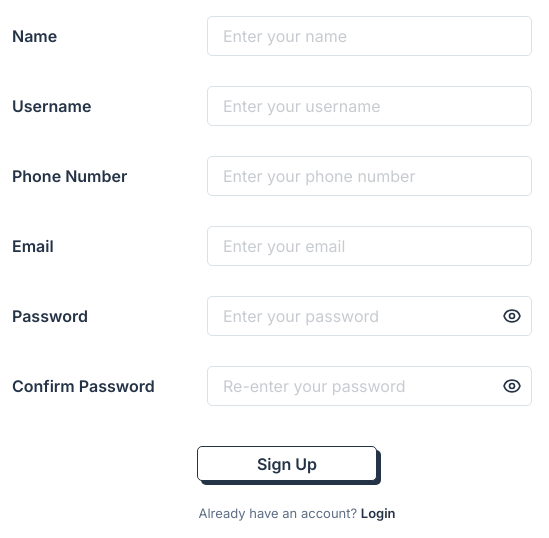
Test: SignUp › should show one email field
The image size is (549, 538).
Click the field labelled "Email". click: x=370, y=246
box: [207, 226, 532, 266]
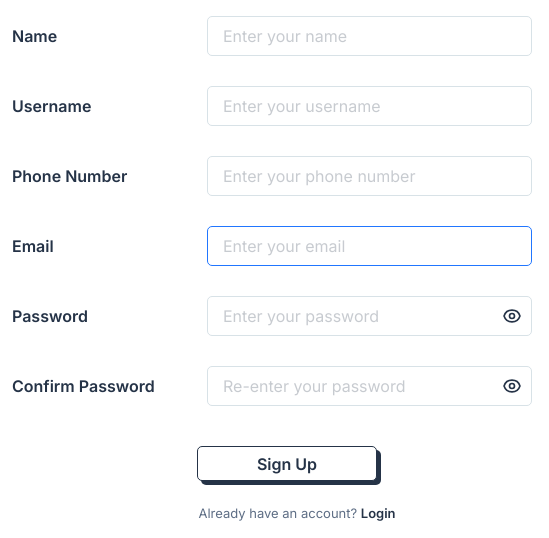
Type keys "john@e.com"
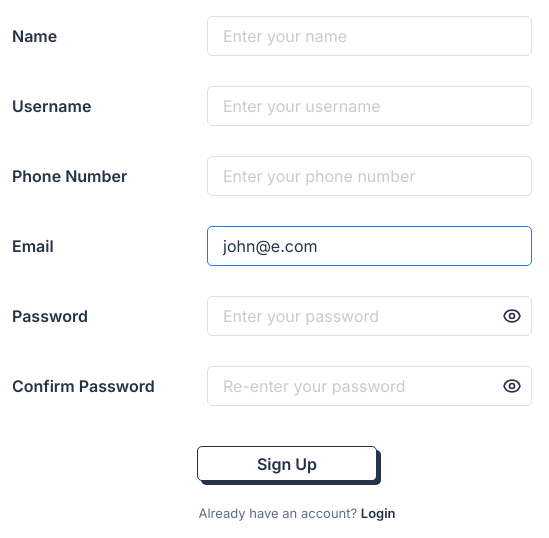
Expected: the field labelled "Email" holds "john@e.com", [207, 226, 532, 266]
